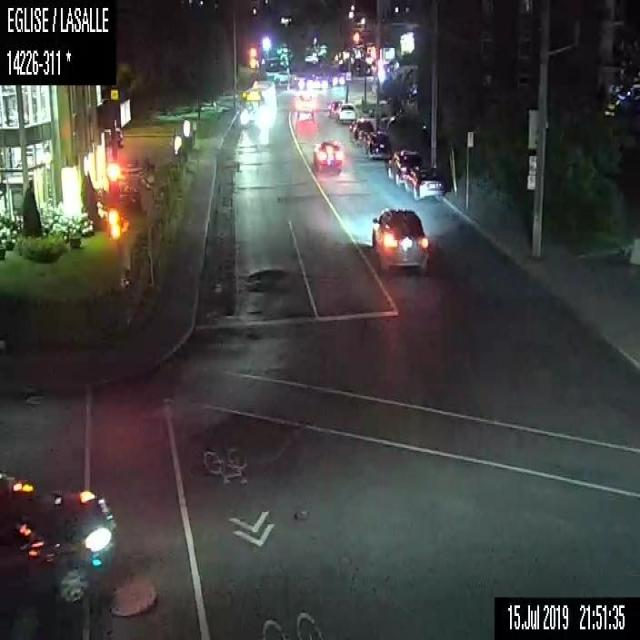bus: (239, 79, 276, 128)
vehicle: (0, 472, 118, 605), (370, 206, 428, 274), (404, 163, 444, 200), (387, 147, 418, 183), (364, 129, 394, 159), (312, 139, 341, 169), (348, 117, 374, 145), (296, 94, 314, 118), (337, 101, 356, 123), (332, 70, 344, 88), (313, 76, 328, 90), (298, 78, 312, 89)
